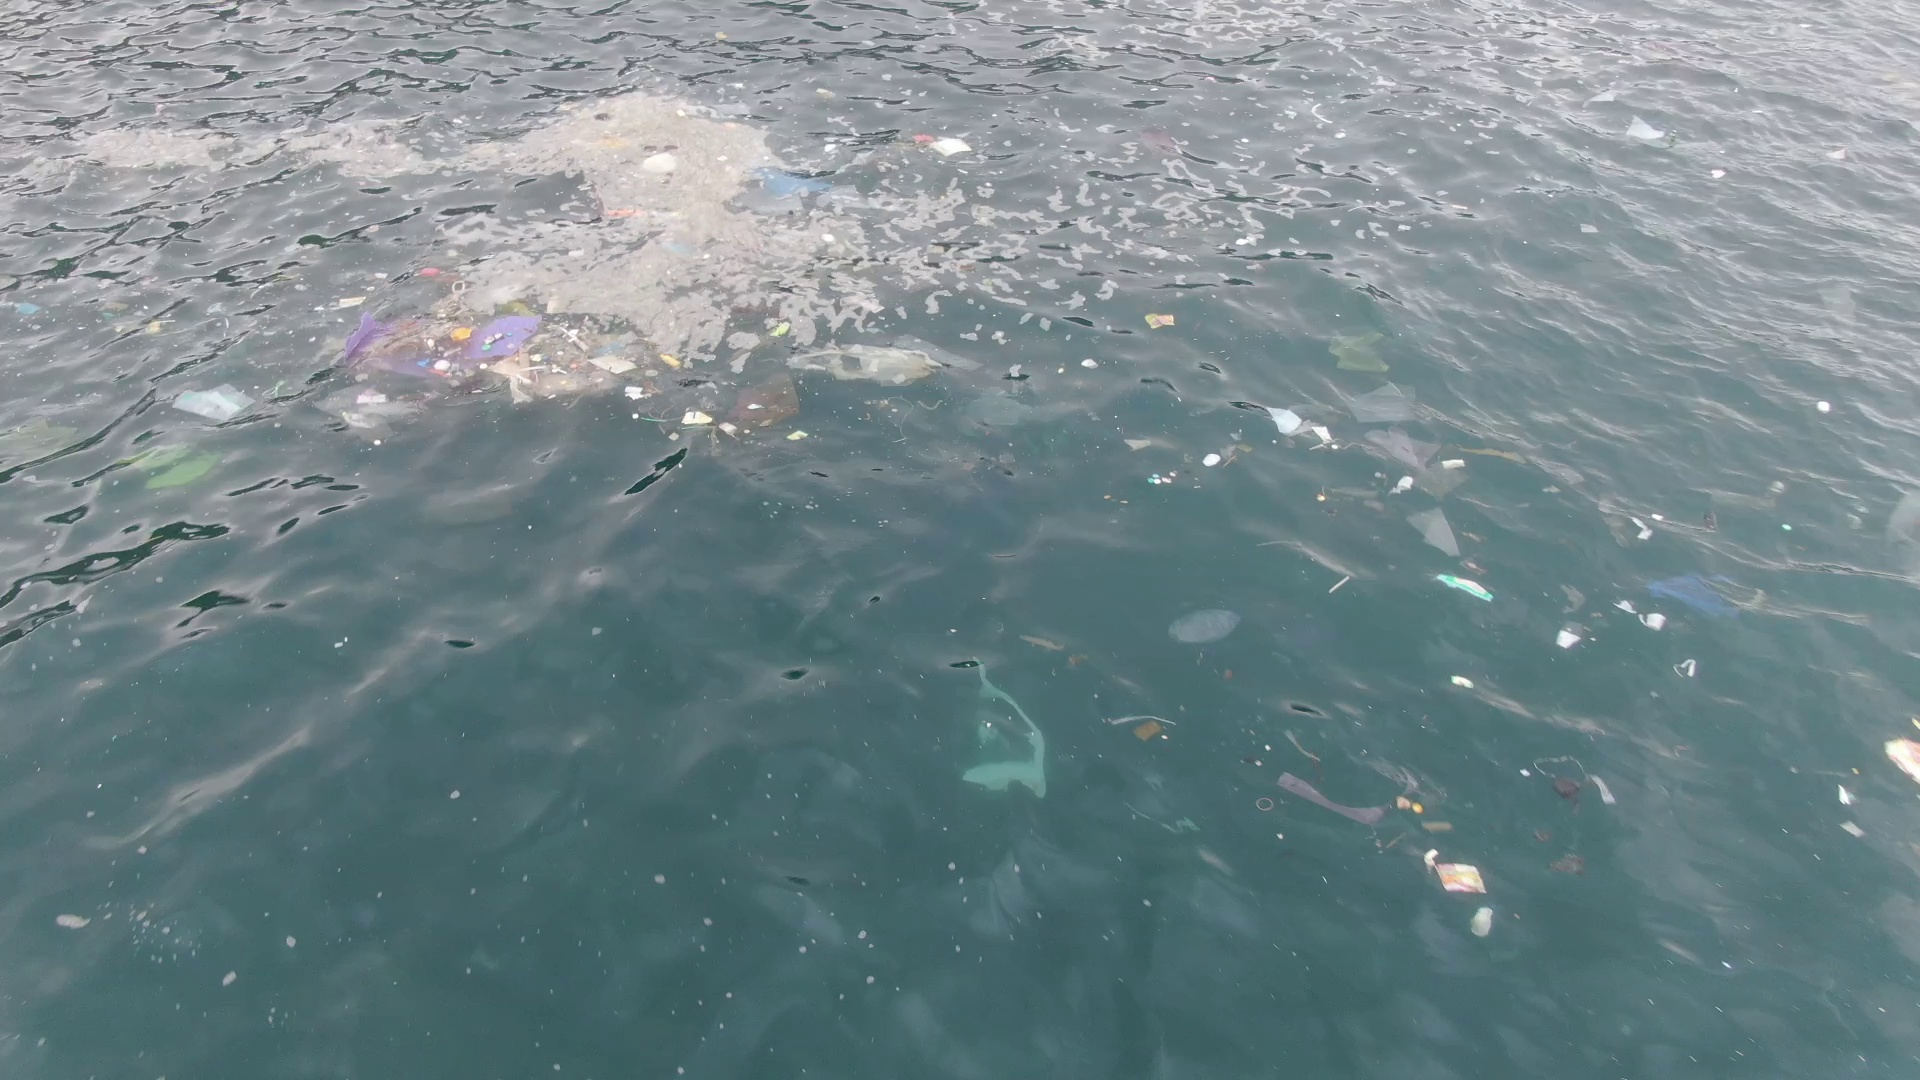garbage: (349, 311, 684, 406), (1332, 382, 1470, 563), (1555, 574, 1735, 649), (964, 659, 1052, 795), (1398, 770, 1487, 895), (687, 375, 803, 444), (1532, 756, 1610, 858), (785, 342, 945, 388), (1266, 767, 1387, 827), (1130, 440, 1250, 483), (1269, 390, 1335, 456), (132, 444, 222, 487), (745, 165, 829, 210), (1328, 324, 1396, 377), (175, 385, 257, 425), (1171, 608, 1240, 644), (1441, 570, 1495, 613), (1105, 713, 1179, 742), (600, 202, 686, 225), (1884, 731, 1917, 785), (914, 129, 973, 158), (419, 261, 475, 278), (1629, 115, 1662, 142), (7, 301, 44, 316), (1143, 313, 1175, 328), (568, 248, 585, 258)
